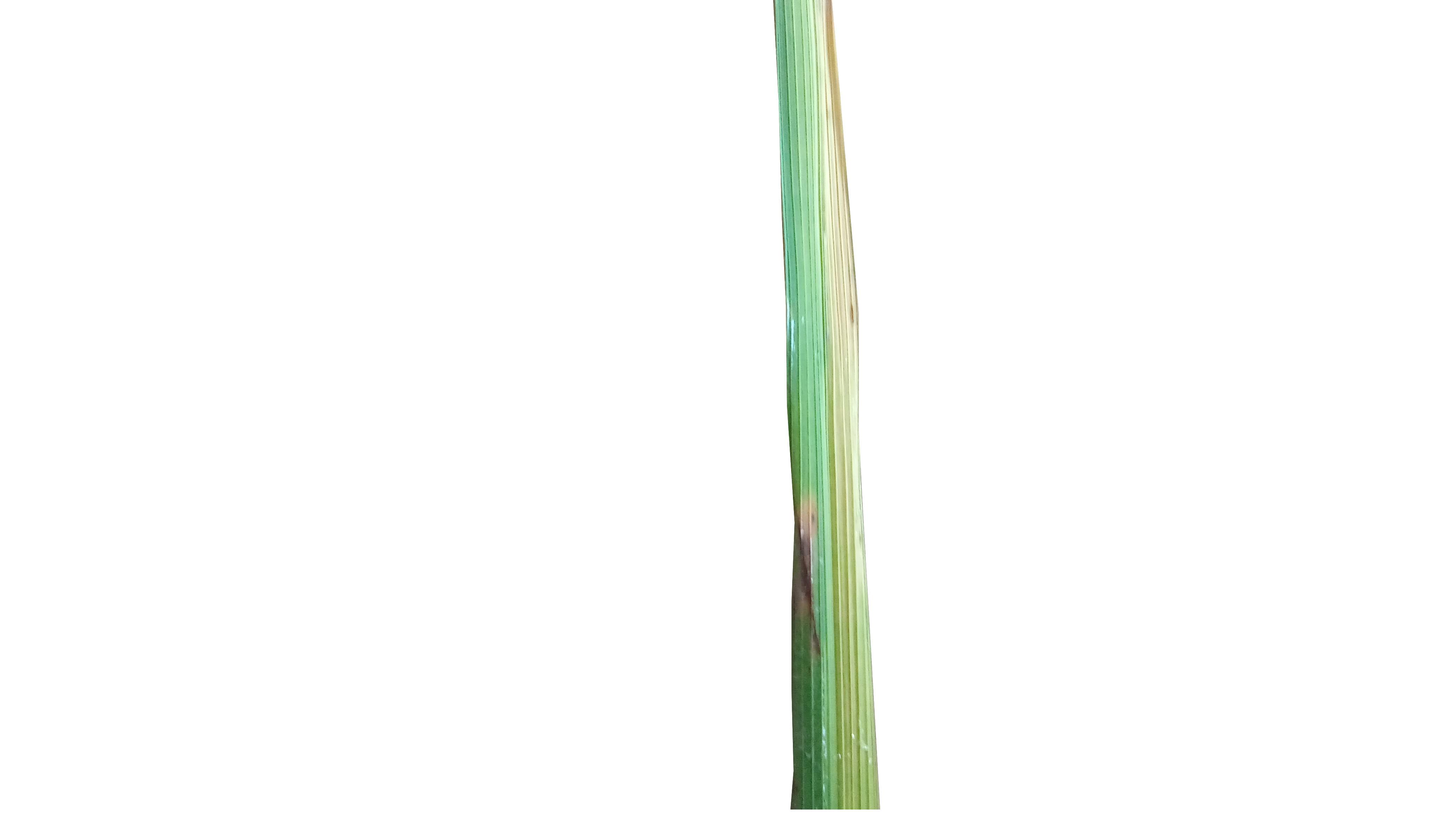Rice blast: (787, 485, 824, 610)
Tungro: (808, 0, 879, 806)
